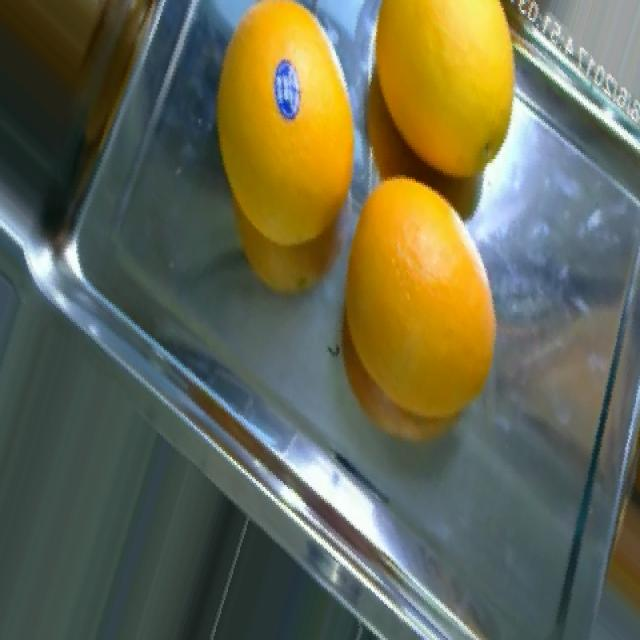Good_Orange: (348, 179, 496, 417), (216, 0, 355, 246), (376, 0, 515, 177)
